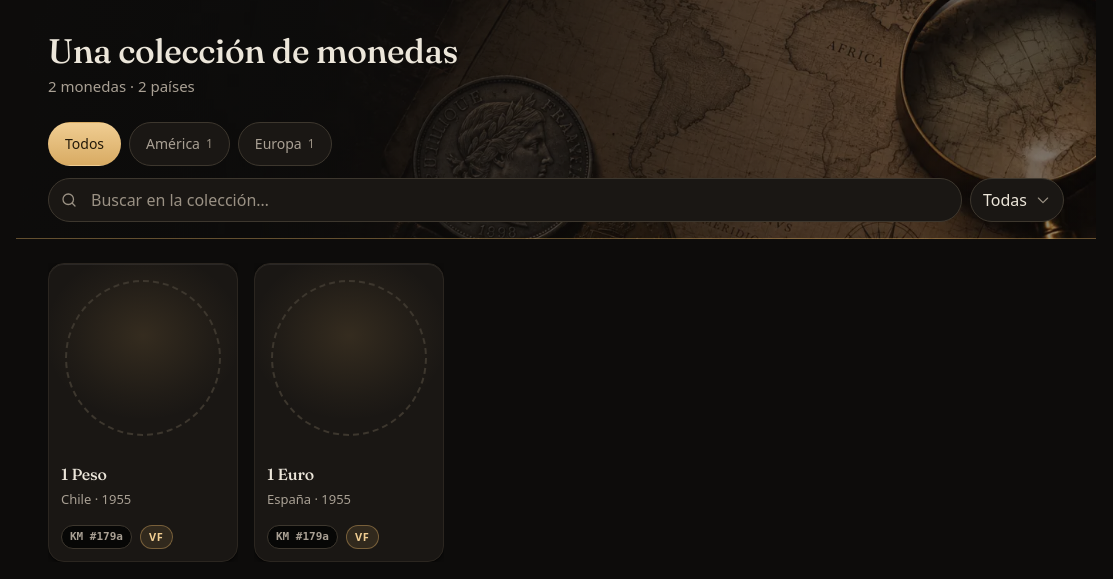
Test: se puede buscar y filtrar por país
The width and height of the screenshot is (1113, 579).
Click the dropdown named "filtrar por país". click: coordinates (1017, 200)
box: [970, 178, 1064, 222]
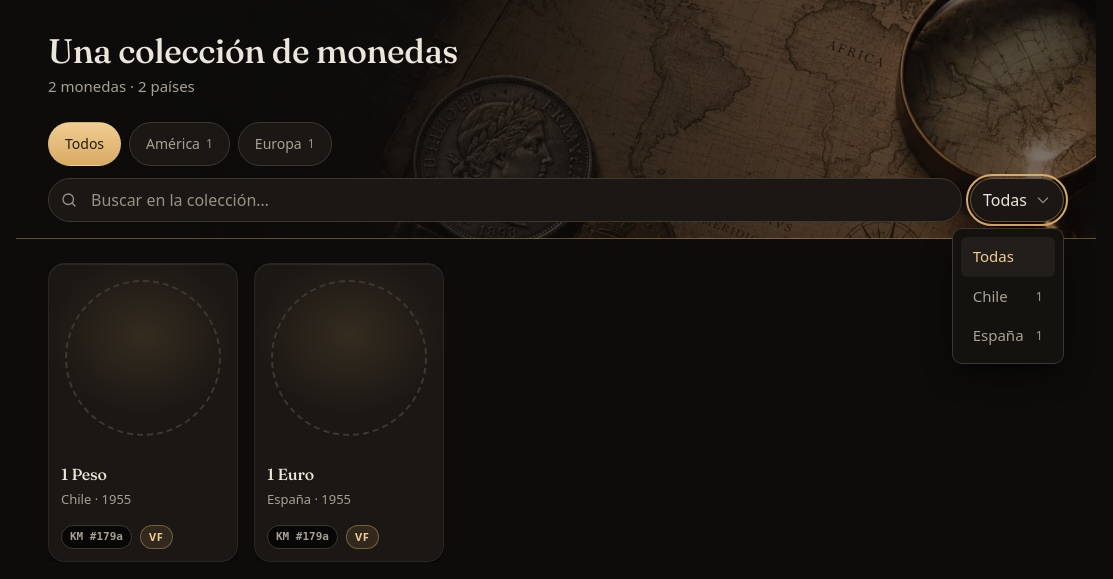
Click the option "España 1". click: coordinates (1008, 335)
box: [973, 325, 1043, 345]
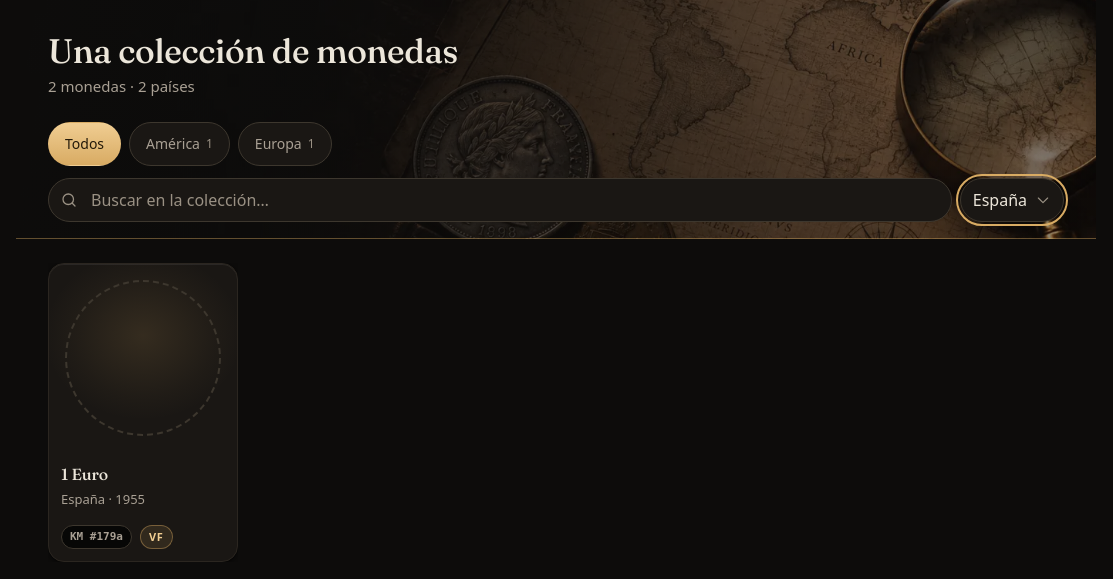
Check: the heading "1 Euro" is shown, box [61, 465, 108, 485]
Check: the heading "1 Peso" is gone
